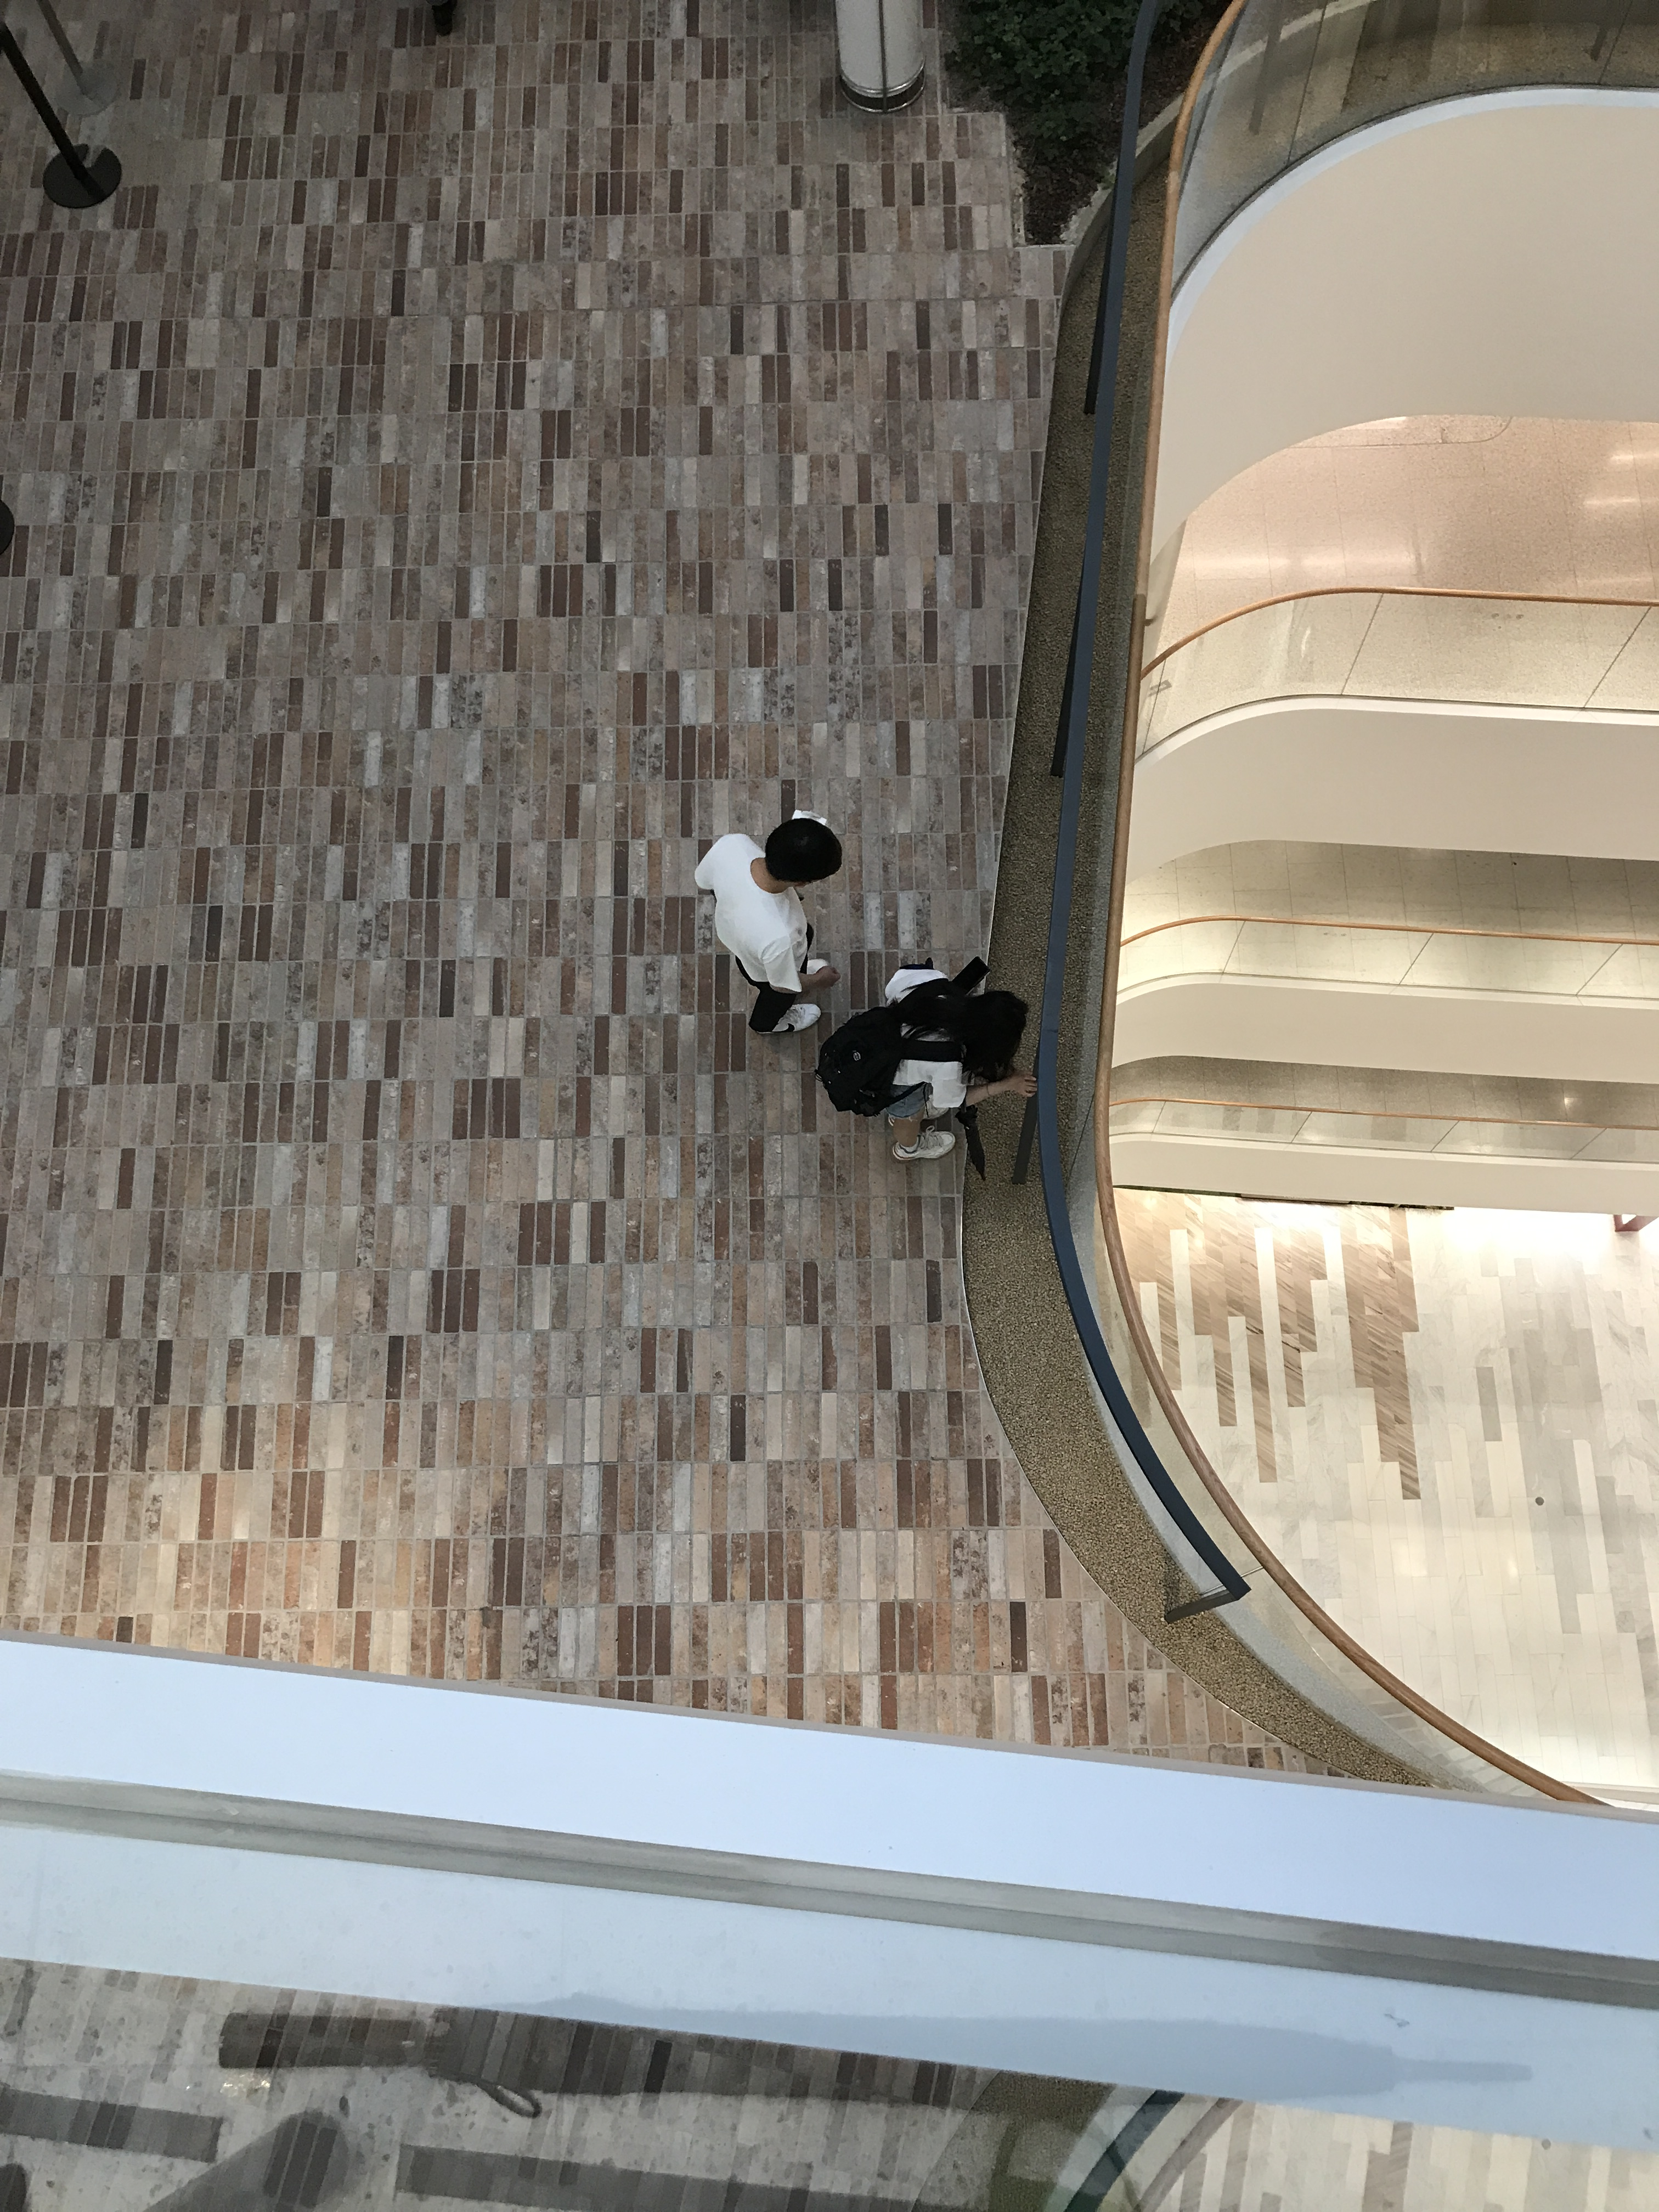person: (811, 952, 1036, 1165), (692, 805, 844, 1037)
